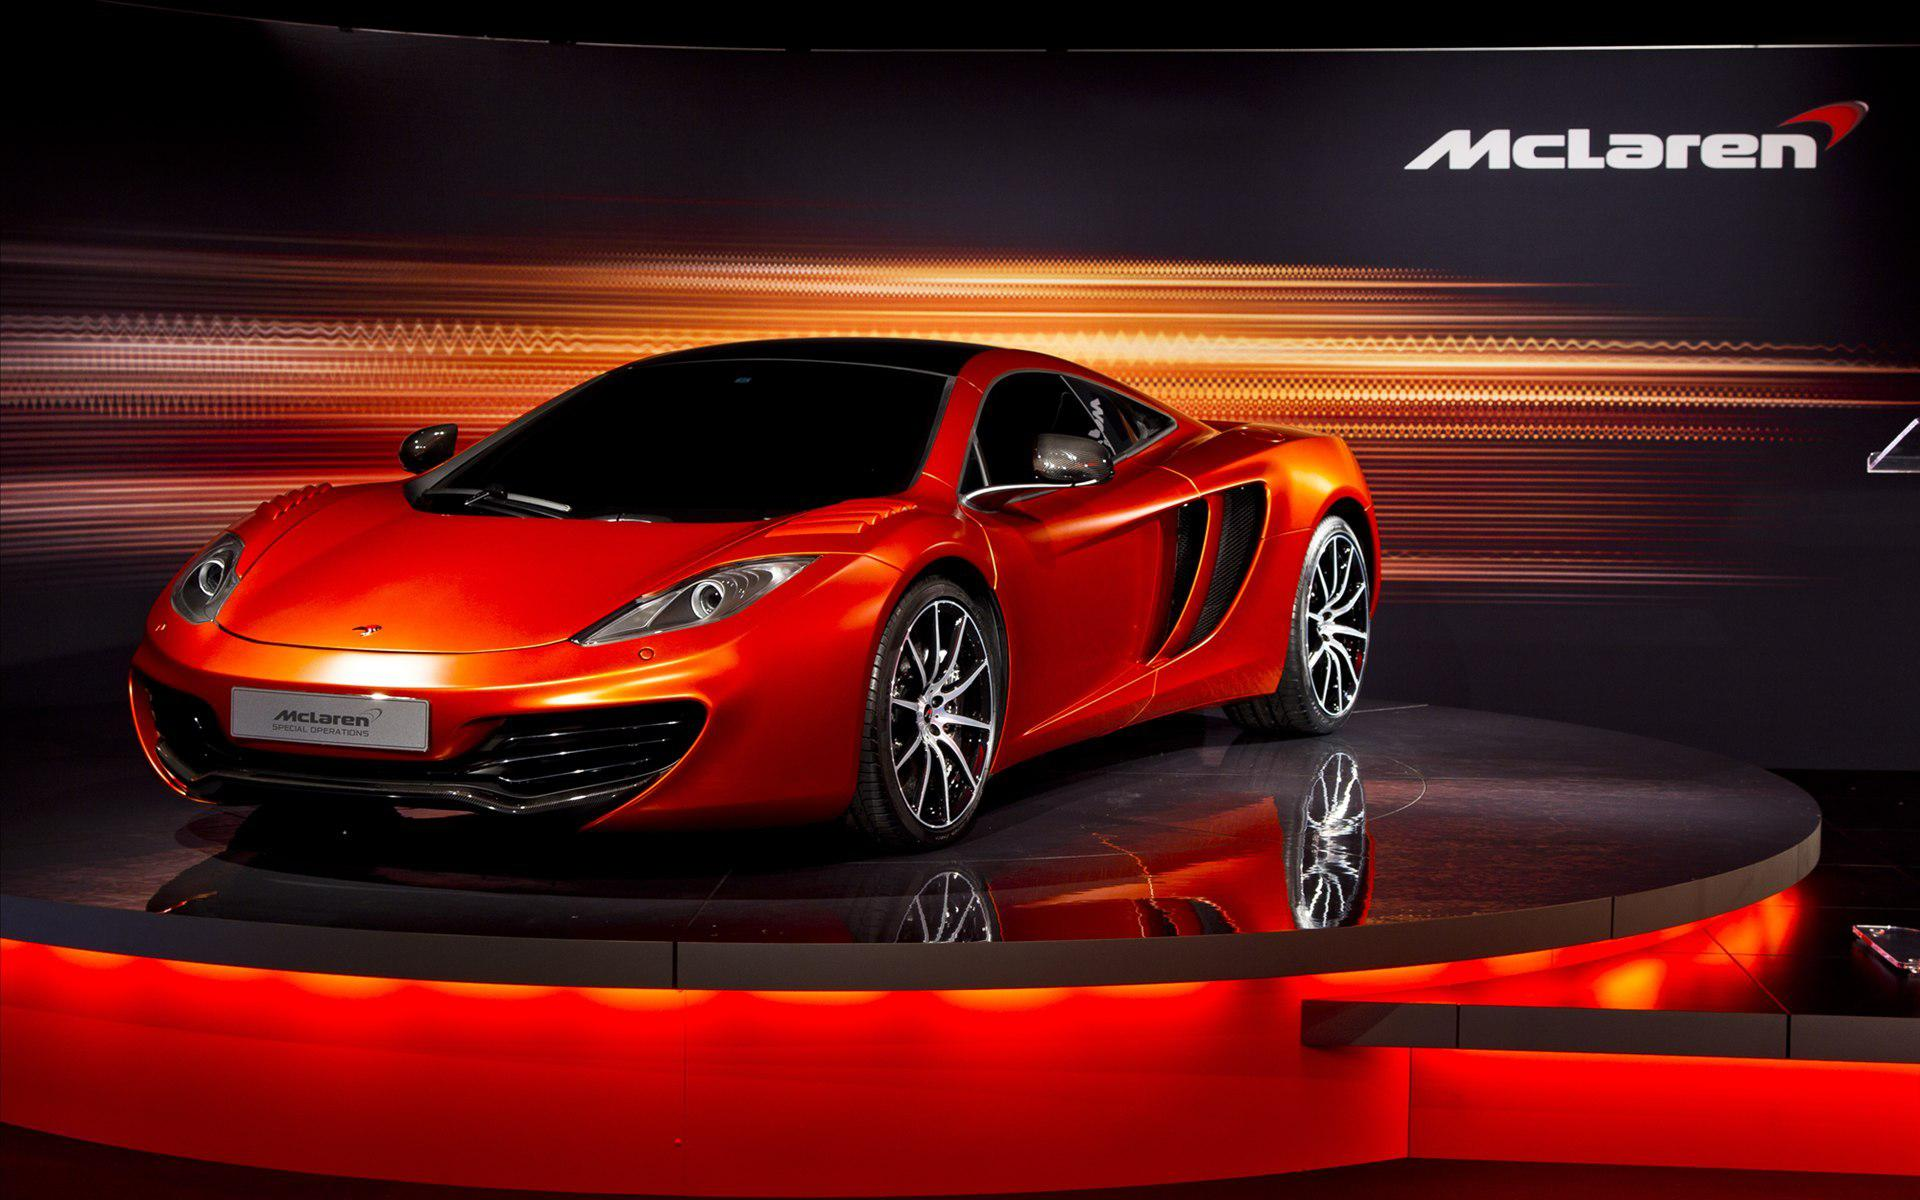Car: (100, 294, 1428, 894)
